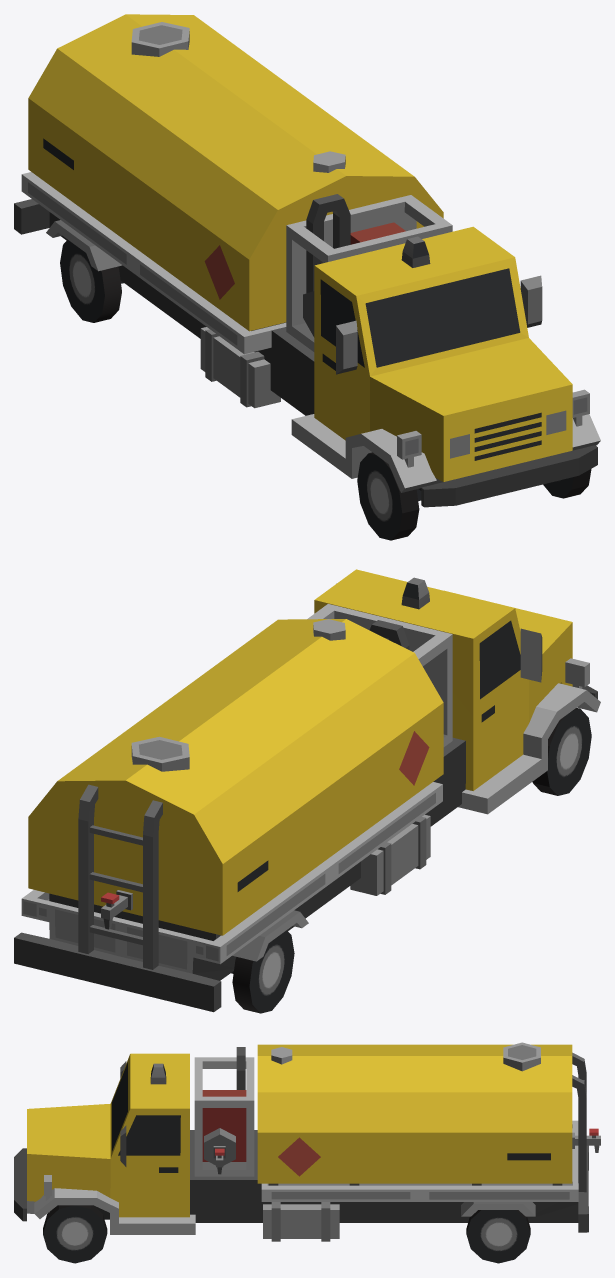
Rendered from SM_Veh_Truck_01.fbx.
The picture shows the model from 3 angles, top to bottom: view 1: azimuth 30°, elevation 25°; view 2: azimuth 150°, elevation 25°; view 3: azimuth 270°, elevation 25°; orthographic projection. The views are drawn at different scales.
Visible parts, largest first — view 1: SM_Veh_Truck_01, SM_Veh_Truck_Wheel_FR, SM_Veh_Truck_Wheel_RR, SM_Veh_Truck_Wheel_FL; view 2: SM_Veh_Truck_01, SM_Veh_Truck_Wheel_RR, SM_Veh_Truck_Wheel_FR; view 3: SM_Veh_Truck_01, SM_Veh_Truck_Wheel_FL, SM_Veh_Truck_Wheel_RL.
Part boxes in pixels (left/top/right/bottom): SM_Veh_Truck_01: left=14, top=14, right=600, bottom=507; SM_Veh_Truck_Wheel_FR: left=357, top=452, right=419, bottom=540; SM_Veh_Truck_Wheel_RR: left=60, top=240, right=121, bottom=322; SM_Veh_Truck_Wheel_FL: left=543, top=469, right=591, bottom=498; SM_Veh_Truck_01: left=14, top=569, right=600, bottom=1012; SM_Veh_Truck_Wheel_RR: left=232, top=930, right=294, bottom=1013; SM_Veh_Truck_Wheel_FR: left=532, top=708, right=591, bottom=795; SM_Veh_Truck_01: left=14, top=1042, right=600, bottom=1241; SM_Veh_Truck_Wheel_FL: left=43, top=1205, right=107, bottom=1263; SM_Veh_Truck_Wheel_RL: left=466, top=1210, right=530, bottom=1263.
Bounding box in the file's own units: 4.43 × 5.02 × 15.
